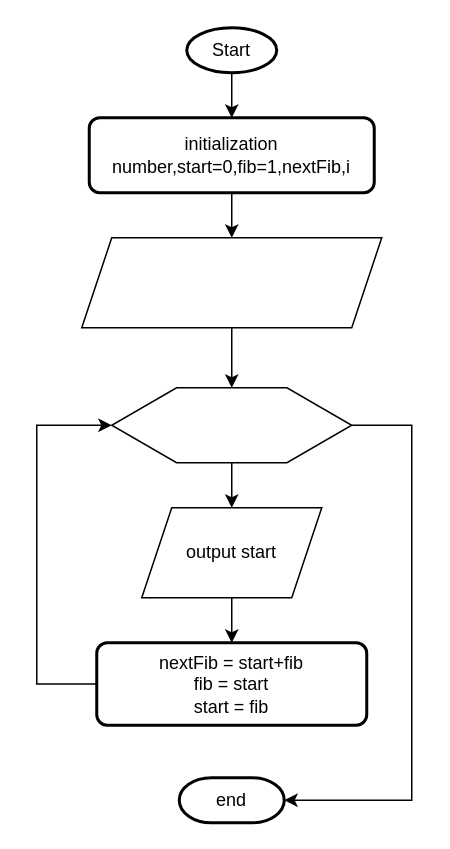
The diagram is 450 pixels wide and 849 high, and some of its shapes have lost their labels. The box of each missing label's shape, as (x1, y1, x2, y2) in pixels:
for i=1;i<=number: (110, 386, 352, 463)
input number,start,fib,nextFib: (80, 236, 382, 328)
